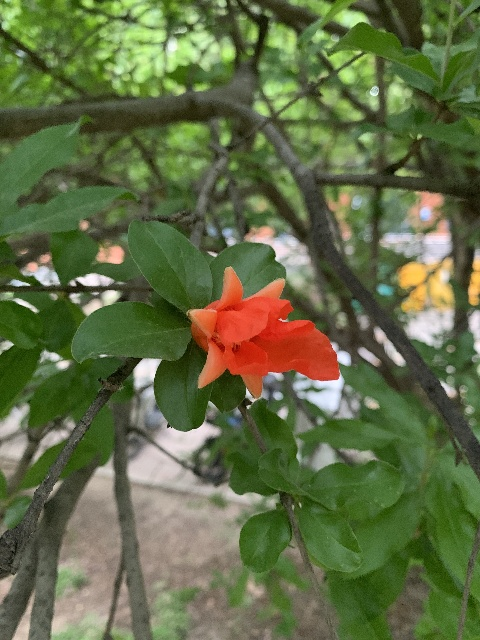flower: (188, 266, 339, 400)
